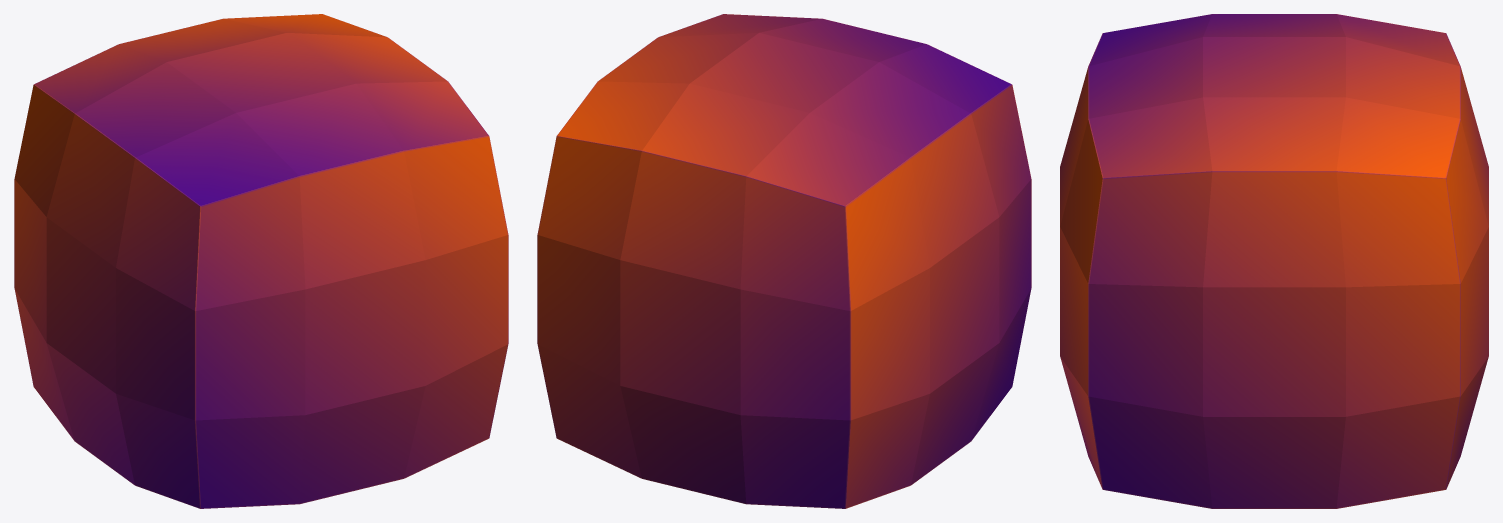
File: zun_cube.glb
3 renders of one model, left to right at view 1: azimuth 30°, elevation 25°; view 2: azimuth 150°, elevation 25°; view 3: azimuth 270°, elevation 25°, orthographic. The views are drawn at different scales.
Visible parts, largest first — view 1: Cube; view 2: Cube; view 3: Cube.
Part boxes in pixels (x1,y1,x2,y2): Cube: [14, 14, 508, 508]; Cube: [537, 14, 1031, 508]; Cube: [1060, 14, 1488, 508].
Size of the model in its own units: 2.22 by 2.22 by 2.22.
Materials: 1 (1 with a texture image).
